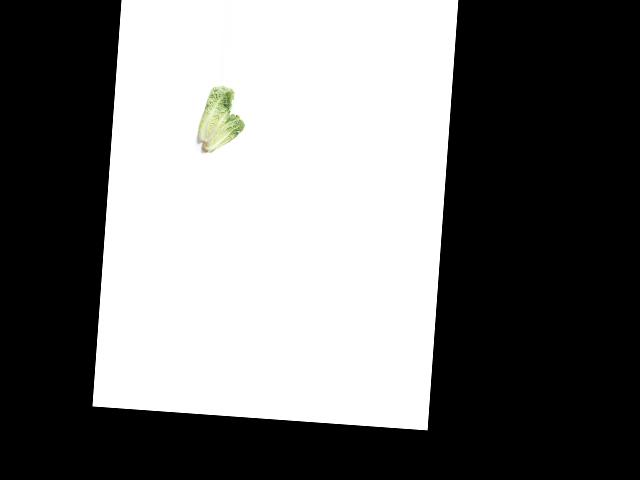lettuce: (200, 111, 246, 158)
